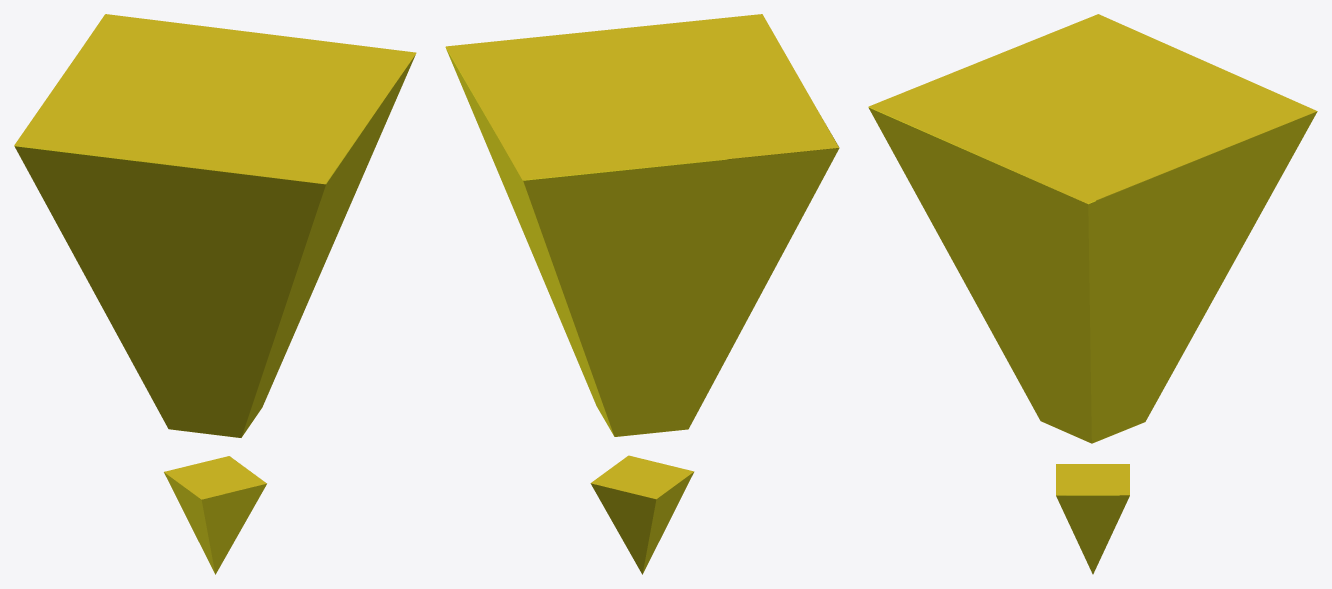
File: cuerpo-piramidePlayer.glb
The picture shows the model from 3 angles, left to right: view 1: azimuth 30°, elevation 25°; view 2: azimuth 150°, elevation 25°; view 3: azimuth 270°, elevation 25°; orthographic projection. The views are drawn at different scales.
Visible parts, largest first — view 1: Cone; view 2: Cone; view 3: Cone.
Part boxes in pixels (x1,y1,x2,y2): Cone: [14, 14, 416, 574]; Cone: [445, 14, 839, 574]; Cone: [868, 14, 1317, 574].
Size of the model in its own units: 2 by 2.29 by 2.
